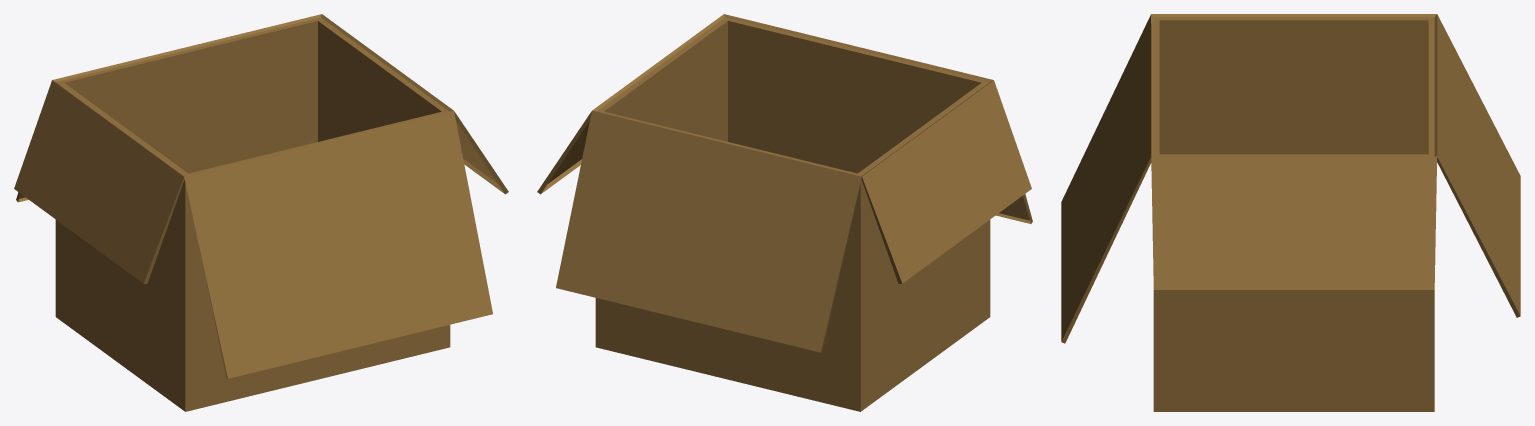
The picture shows the model from 3 angles, left to right: view 1: azimuth 30°, elevation 25°; view 2: azimuth 150°, elevation 25°; view 3: azimuth 270°, elevation 25°; orthographic projection. The views are drawn at different scales.
Parts seen in each view (by area): view 1: Box; view 2: Box; view 3: Box.
Part boxes in pixels (bbox=[...]): Box: bbox=[14, 14, 508, 411]; Box: bbox=[537, 14, 1032, 411]; Box: bbox=[1061, 14, 1520, 411].
Size of the model in its own units: 1.01 by 1.02 by 0.6277.
